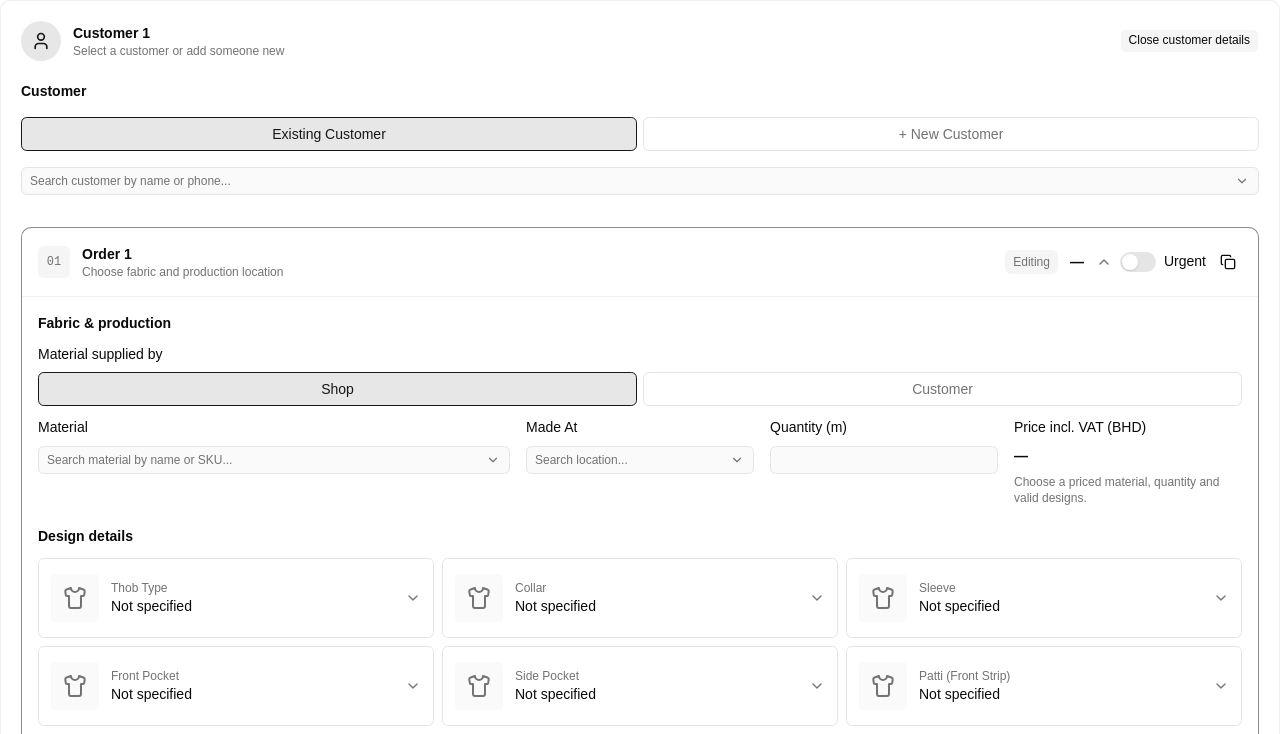
Test: CustomerBlock › shows name and phone fields for a new customer
The width and height of the screenshot is (1280, 734).
Click the radio button "+ New Customer": (951, 134) [643,117,1259,151]
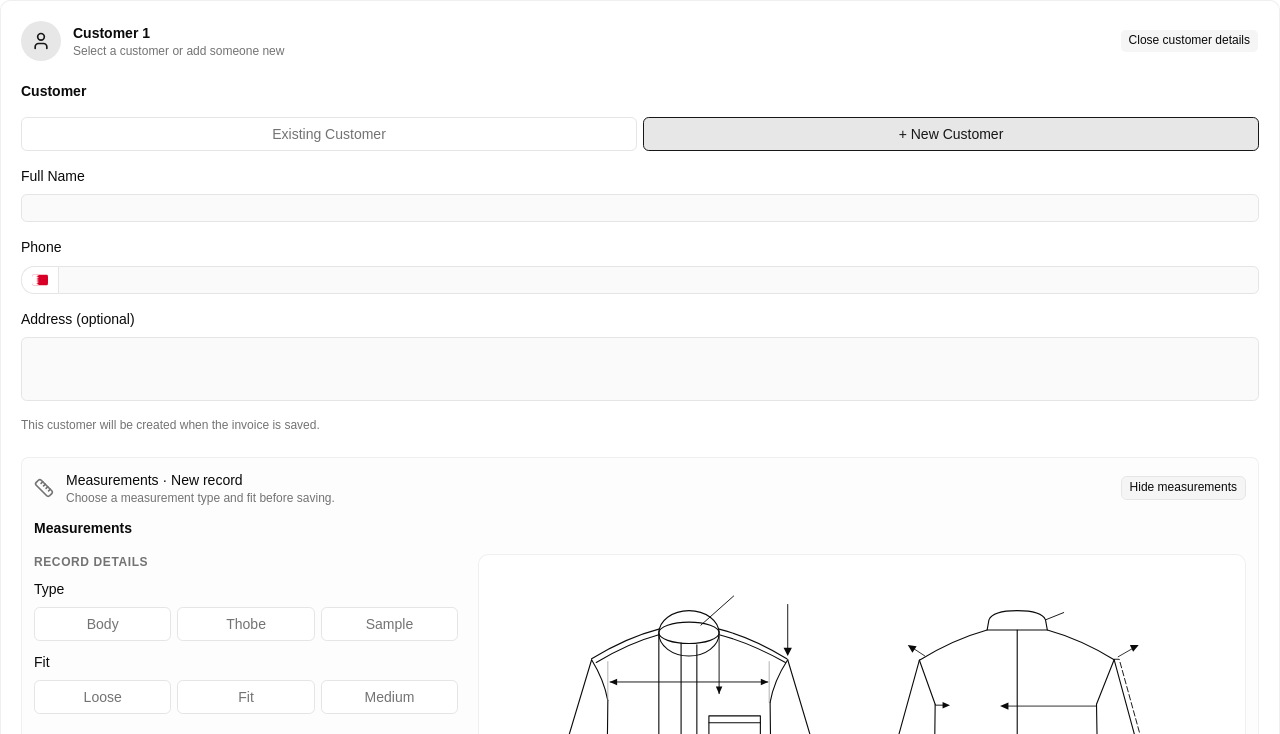
Now the field labelled "Full Name" is shown, box [21,194,1259,222]
Now the field labelled "Phone" is shown, box [58,266,1259,294]
Now the text "This customer will be created when the invoice is saved." is shown, box [21,418,320,432]
